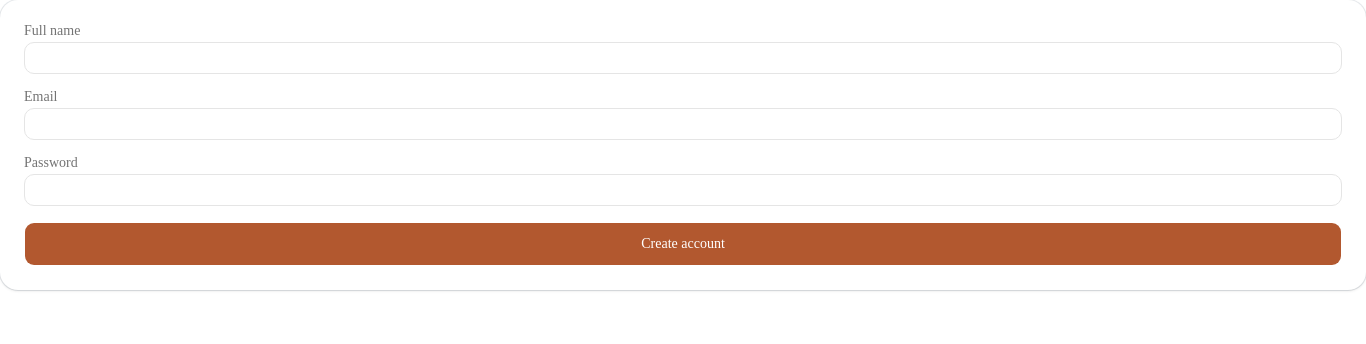
Test: SignUpForm › blocks submission and shows an inline error for a malformed email
This screenshot has width=1366, height=344.
Type "Jane Doe" into the field labelled "Full name".
click(683, 58); type("Jane Doe")  # box [24,42,1342,74]
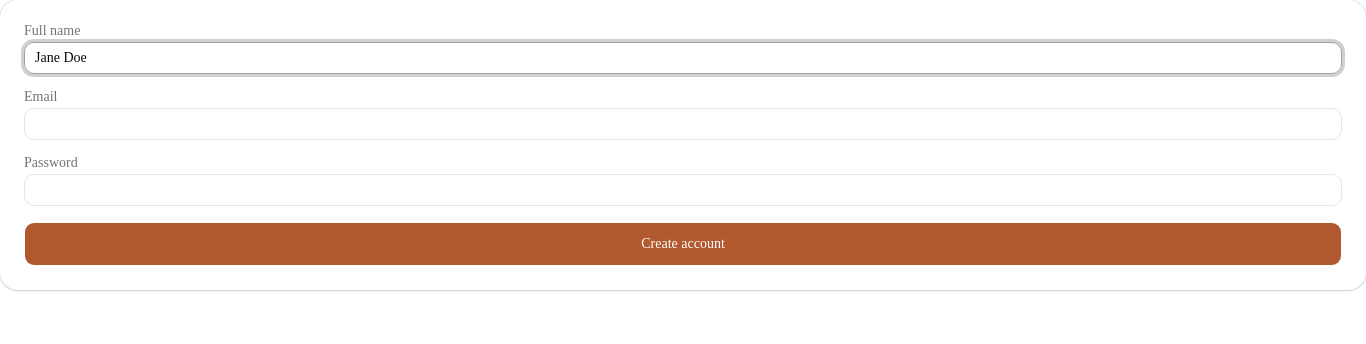
Type "not-an-email" into the field labelled "Email".
click(683, 124); type("not-an-email")  # box [24,108,1342,140]
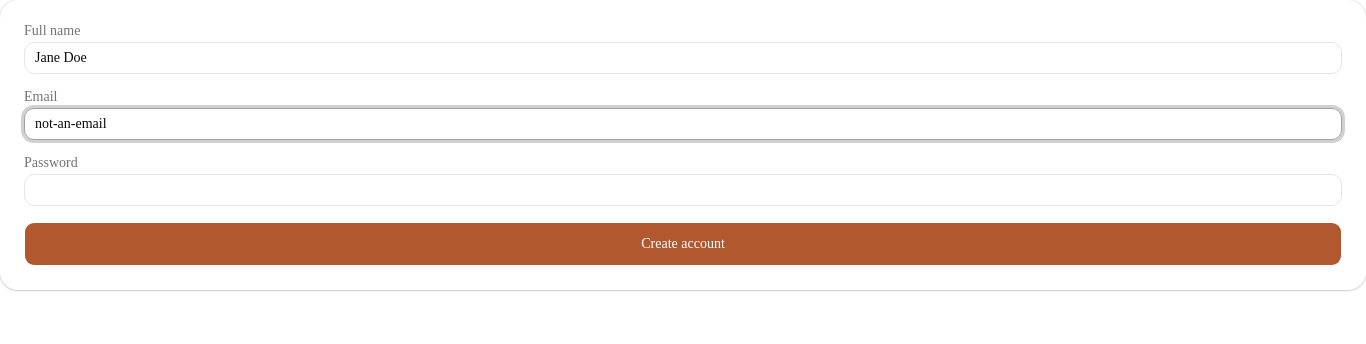
Type "password123" into the password field labelled "Password".
click(683, 190); type("password123")  # box [24,174,1342,206]
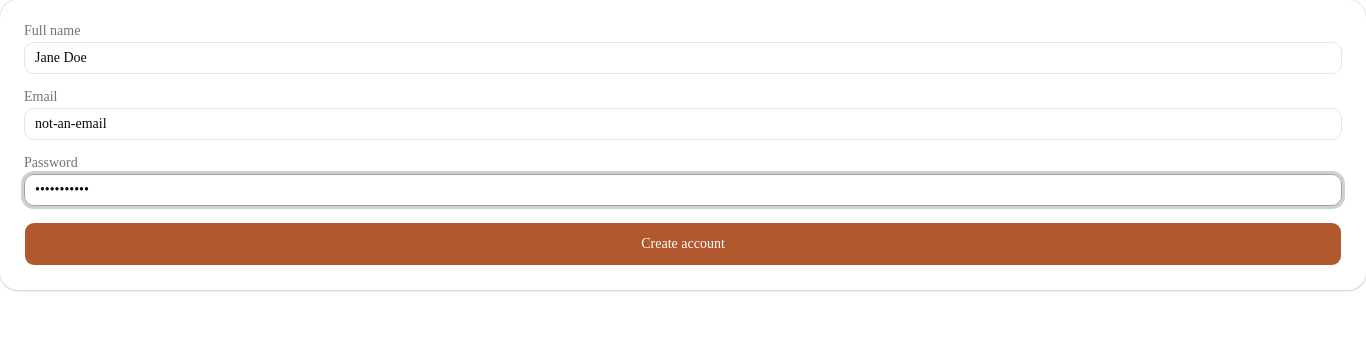
Click the button "Create account".
click(683, 244)  # box [24,222,1342,266]
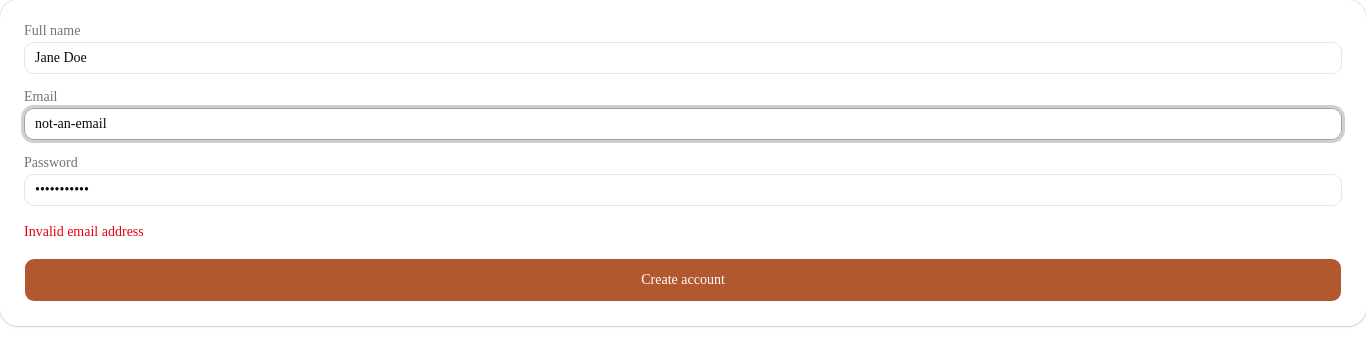
Now the message "Invalid email address" is shown, box [24,224,144,239]
